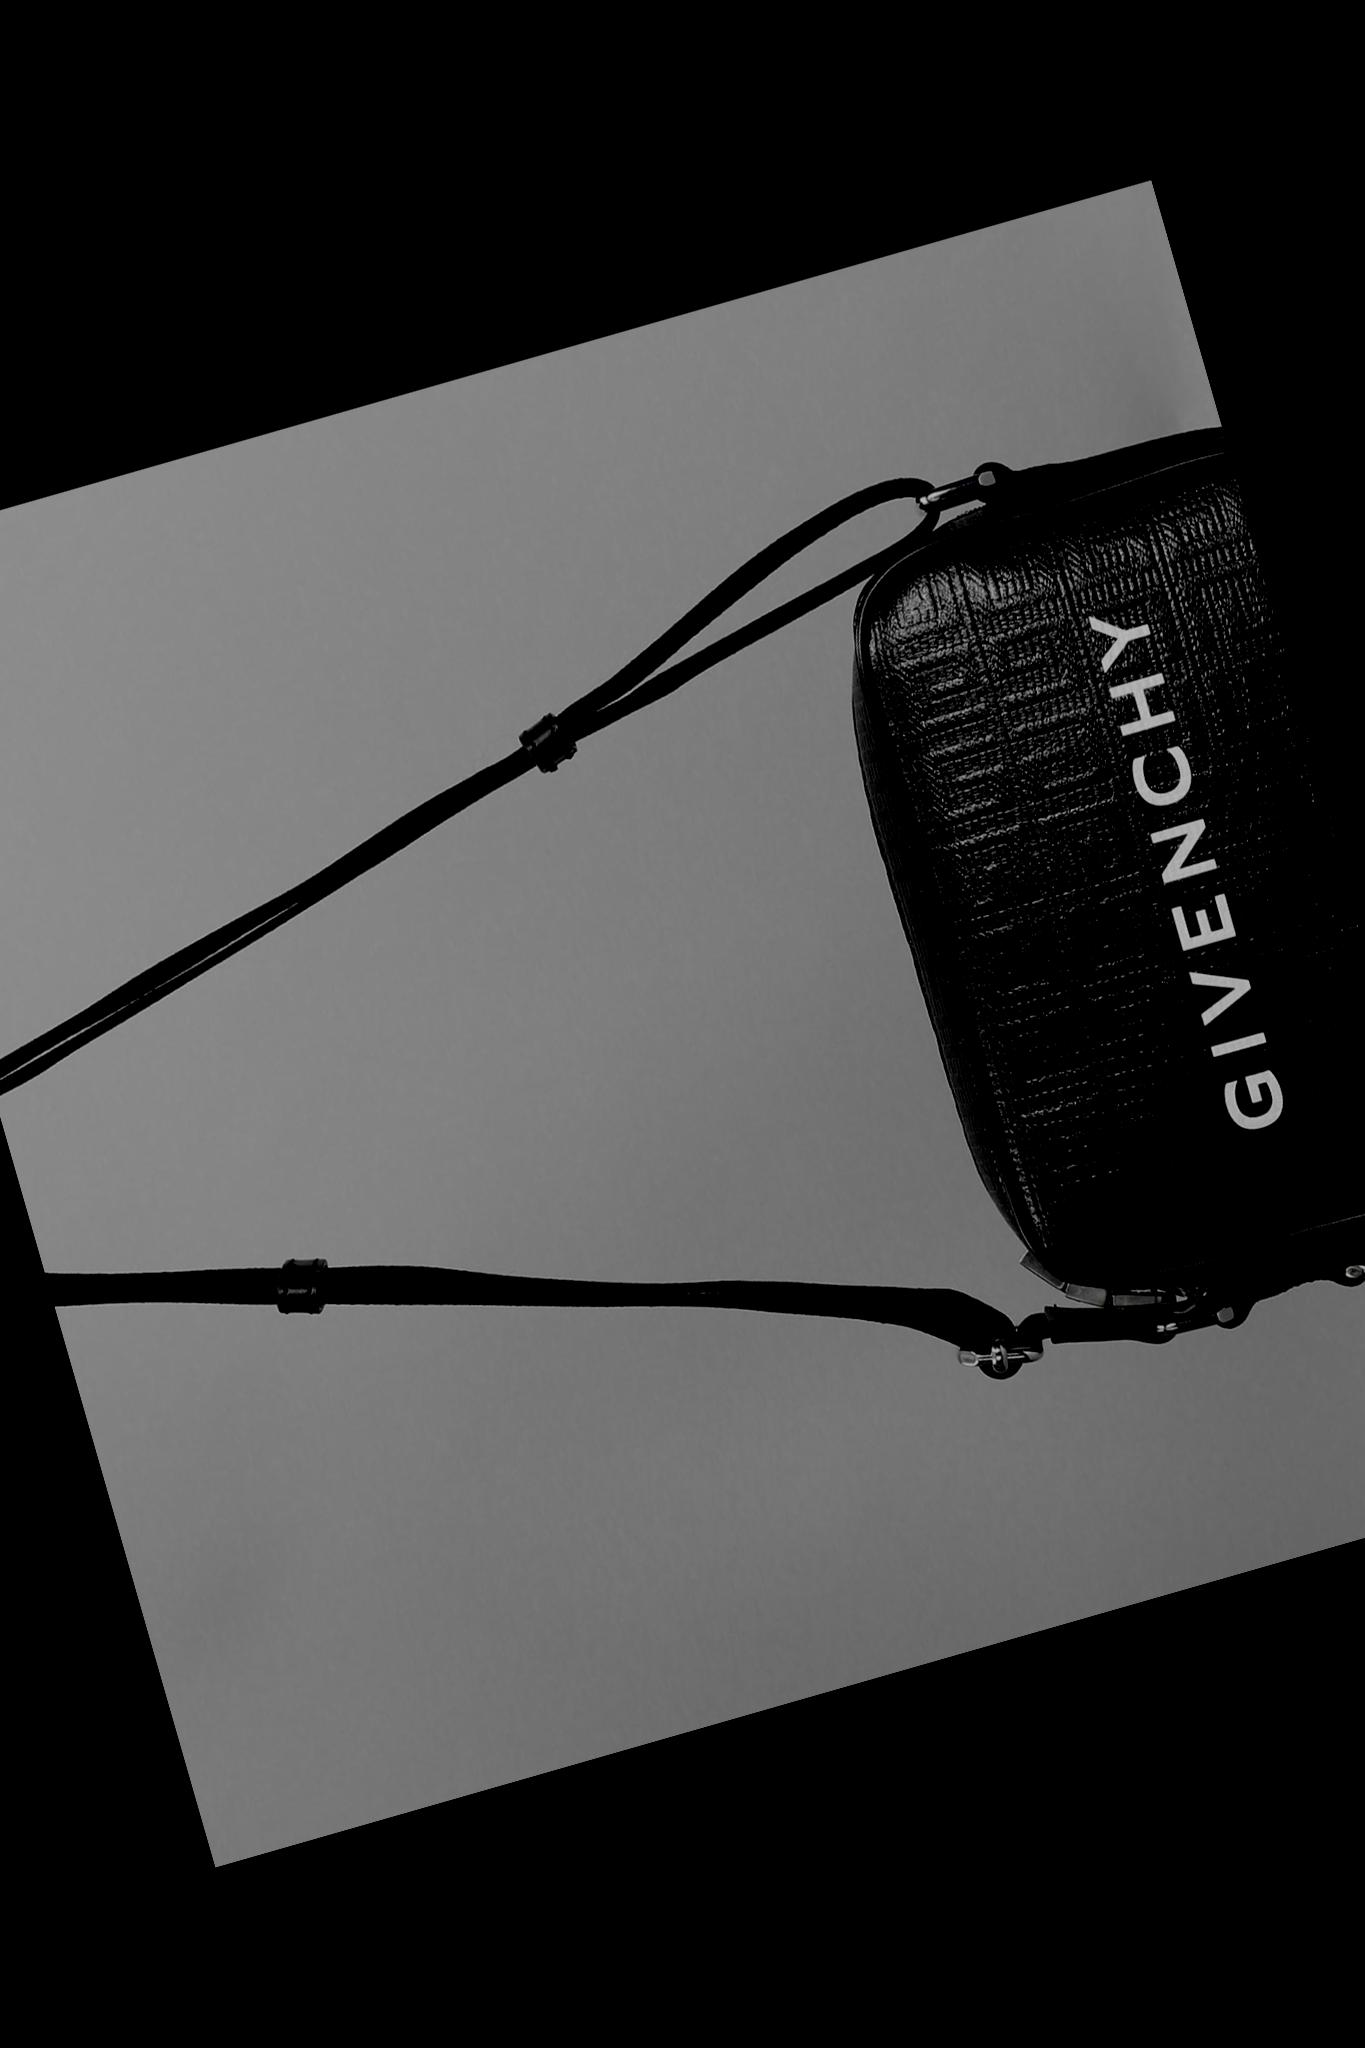GIVENCHY: (1048, 562, 1327, 1168)
